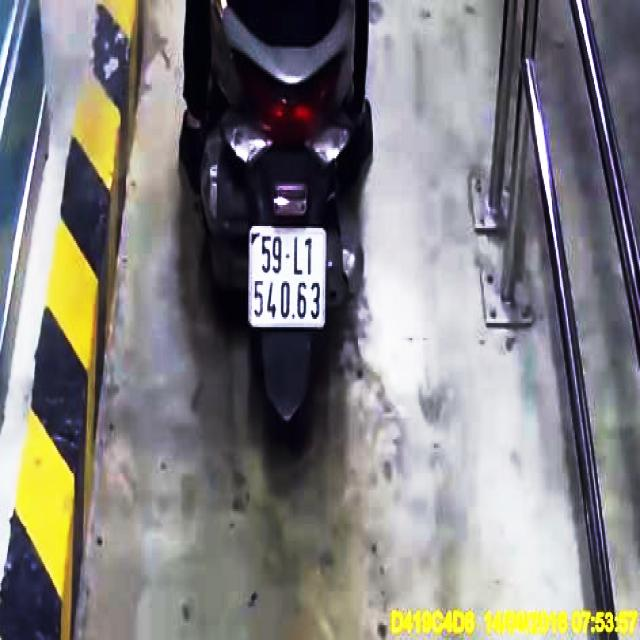license_plate: (250, 229, 327, 328)
